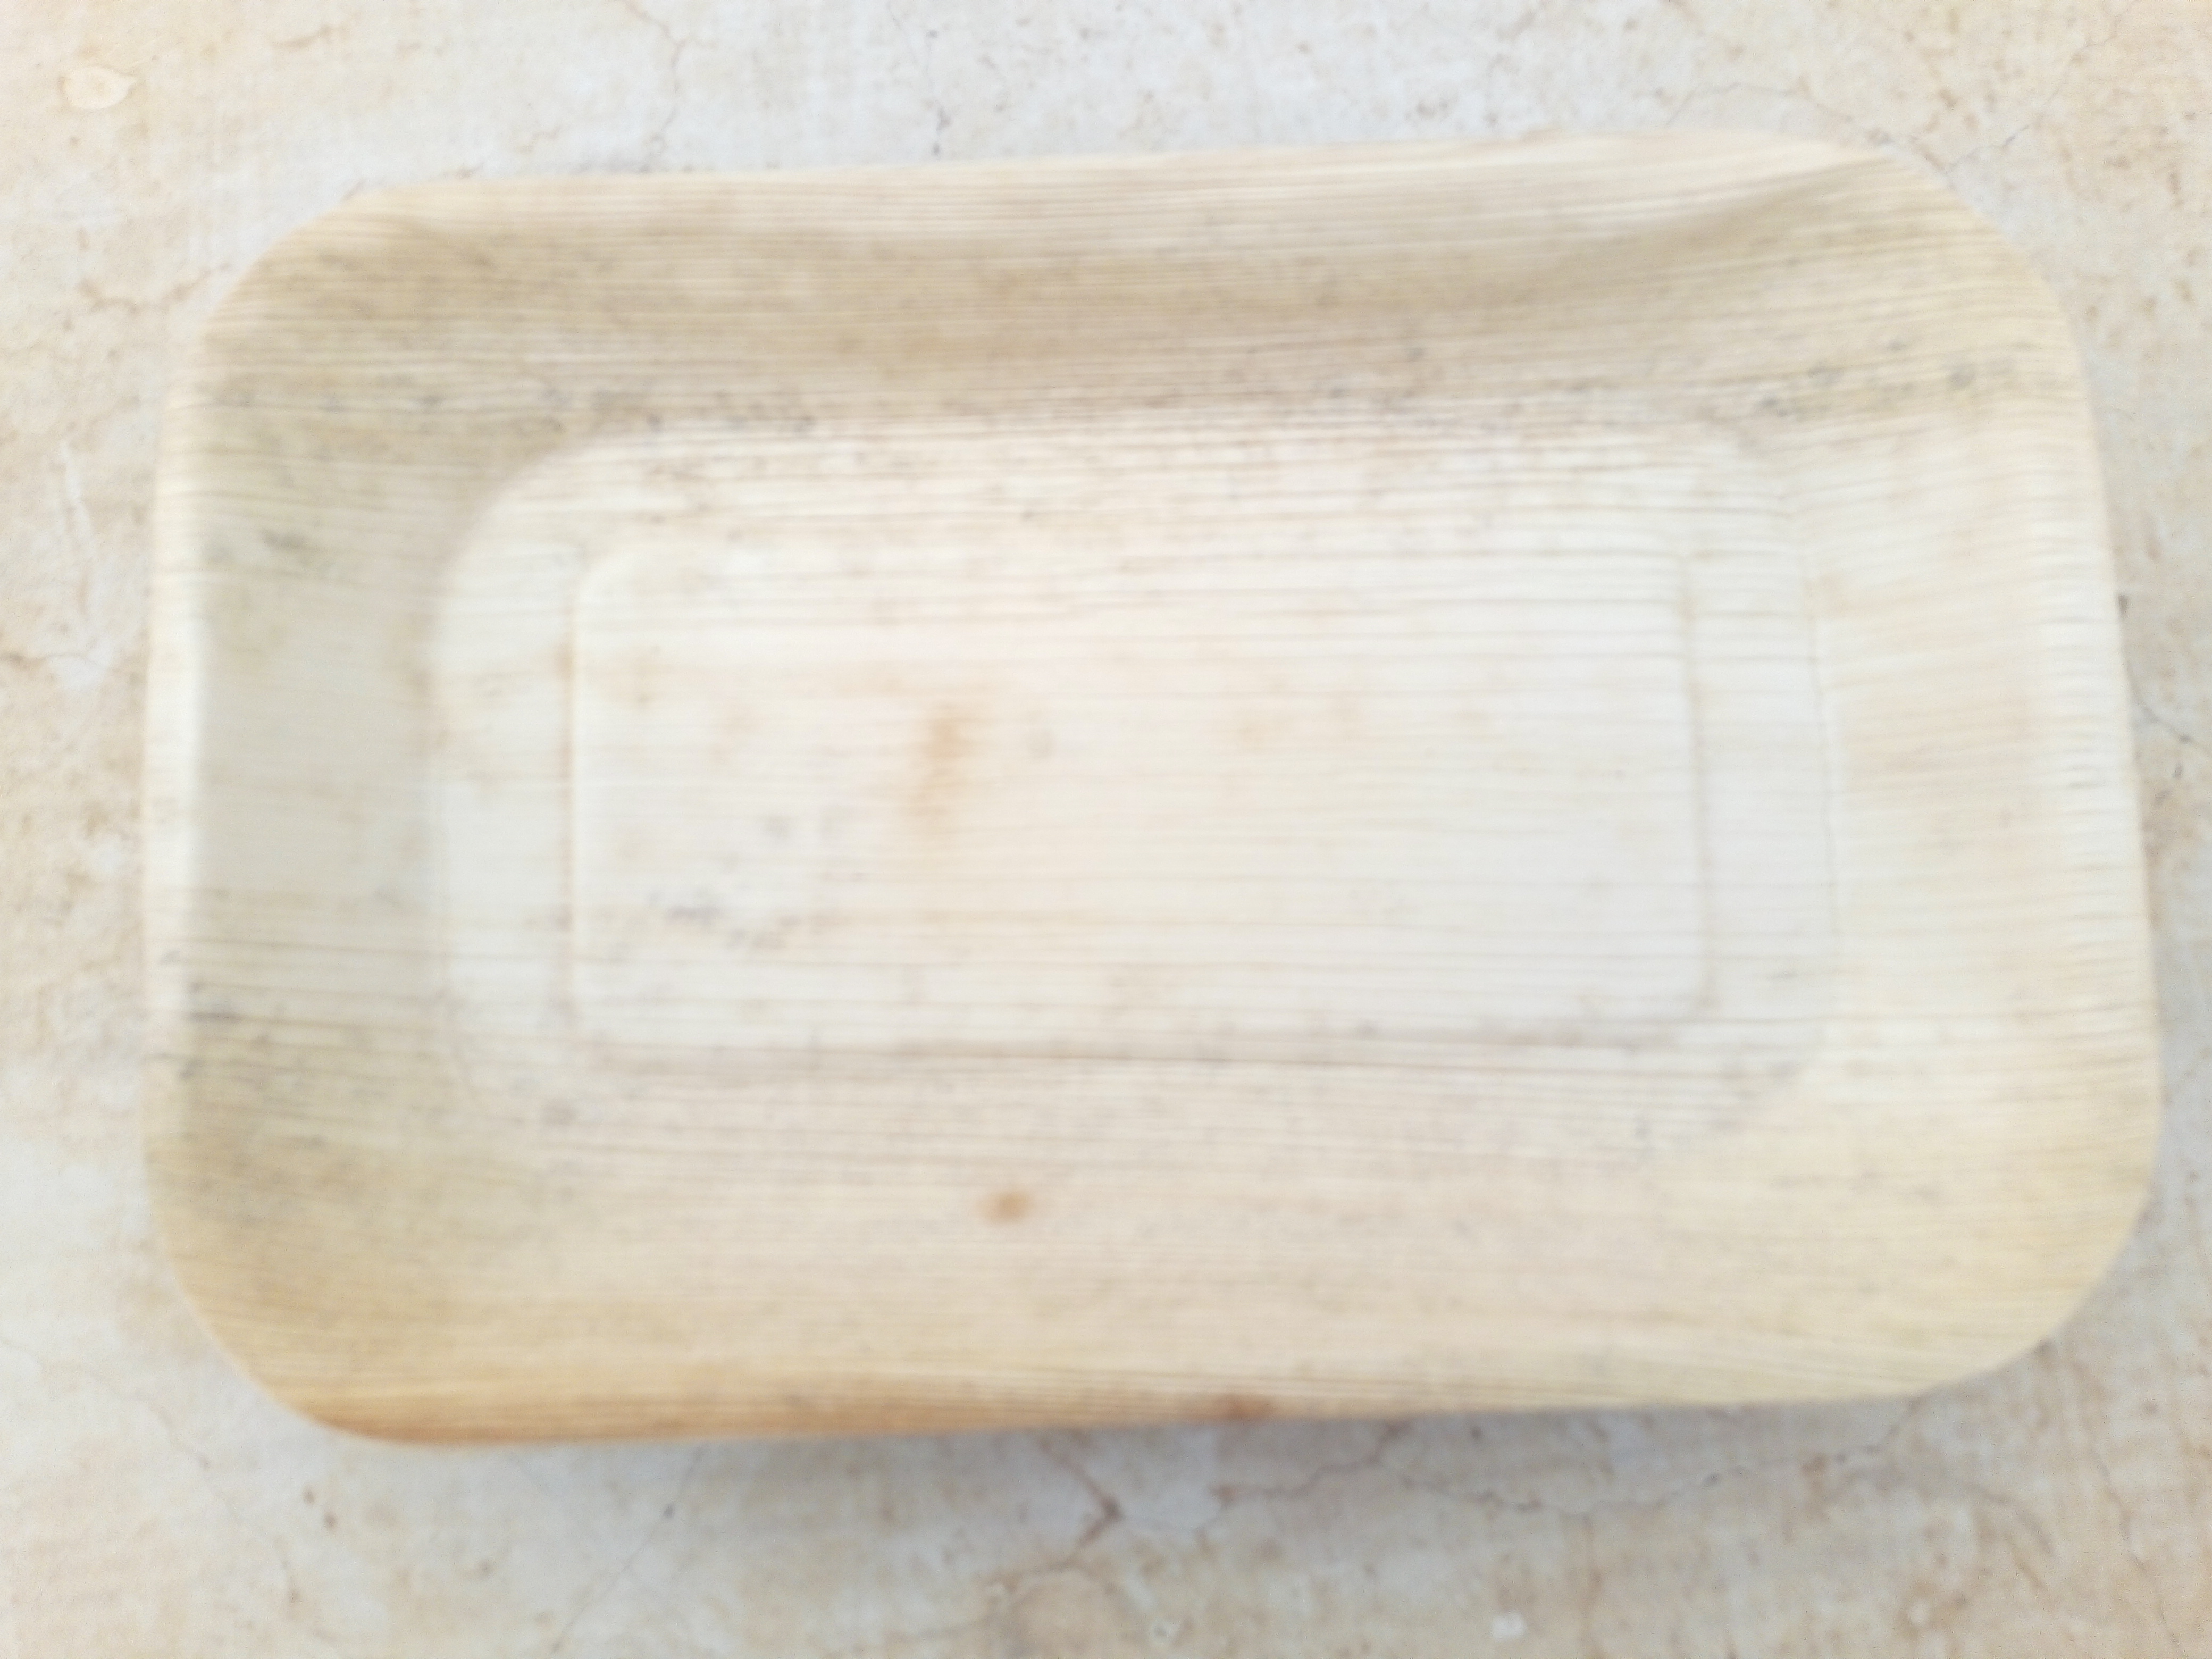areca plate: (171, 159, 2158, 1450)
